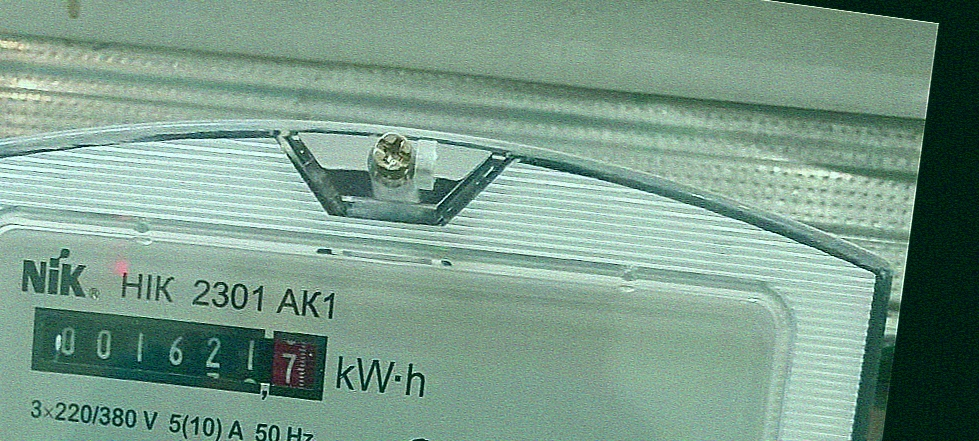0: (91, 323, 118, 362), (56, 320, 81, 356)
1: (242, 333, 261, 372), (131, 326, 150, 364)
2: (202, 332, 228, 370)
6: (165, 331, 188, 367)
7: (276, 347, 300, 385)
screen: (22, 292, 338, 413)
